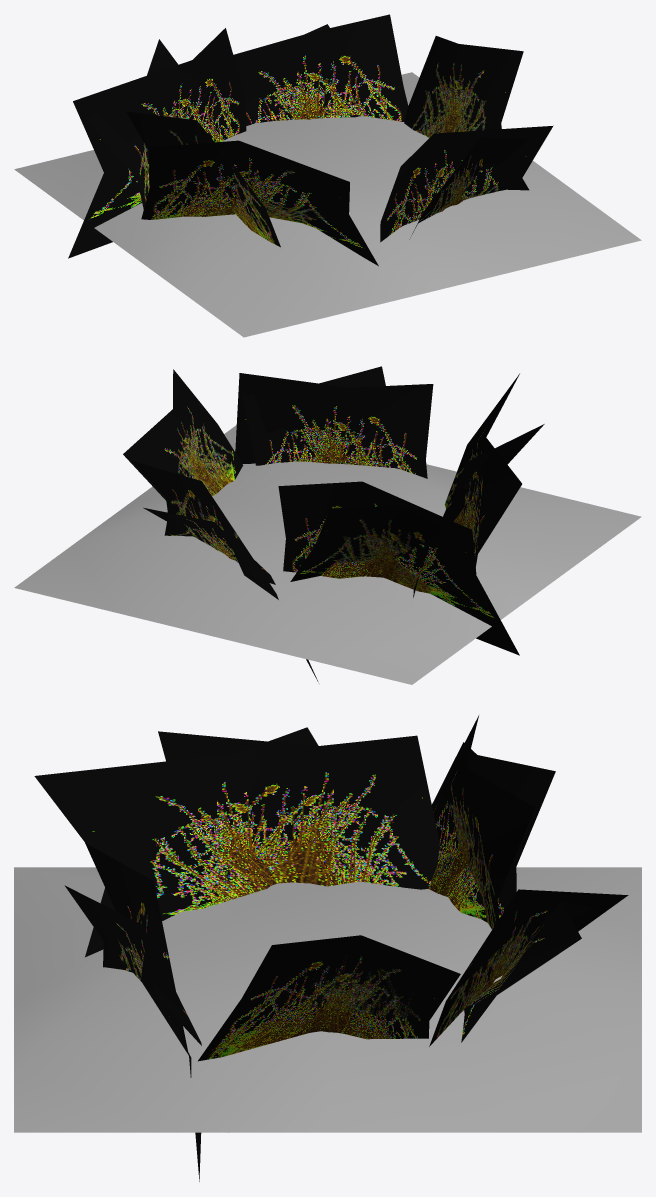
Rendered from holewithgrass.fbx.
3 views of the same model, one above another, from view 1: azimuth 30°, elevation 25°; view 2: azimuth 150°, elevation 25°; view 3: azimuth 270°, elevation 25° (orthographic). The views are drawn at different scales.
Parts seen in each view (by area): view 1: holke1; view 2: holke1; view 3: holke1.
Part boxes in pixels (<box>): holke1: <box>14,14,641,337</box>; holke1: <box>14,366,641,684</box>; holke1: <box>14,715,641,1181</box>.
Size of the model in its own units: 5.34 by 2.25 by 5.
